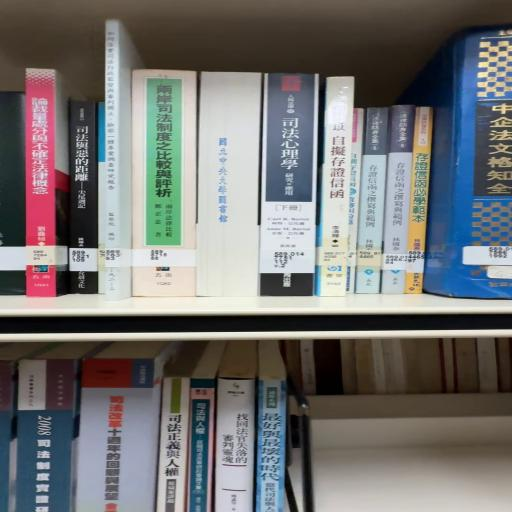backward: (197, 73, 265, 301)
book: (420, 22, 512, 299), (263, 73, 325, 302), (128, 70, 196, 247), (102, 22, 147, 272), (317, 75, 358, 298), (25, 72, 56, 304), (214, 379, 257, 512), (255, 342, 288, 512), (384, 107, 419, 262), (156, 376, 191, 512), (1, 94, 29, 252), (187, 383, 214, 512)
